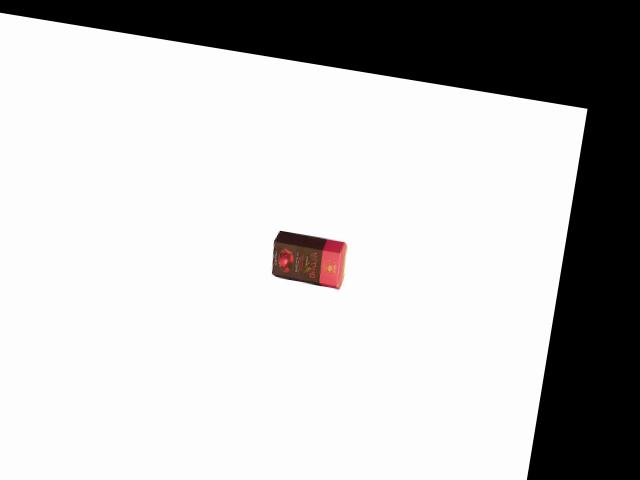chocolate: (261, 227, 352, 291)
